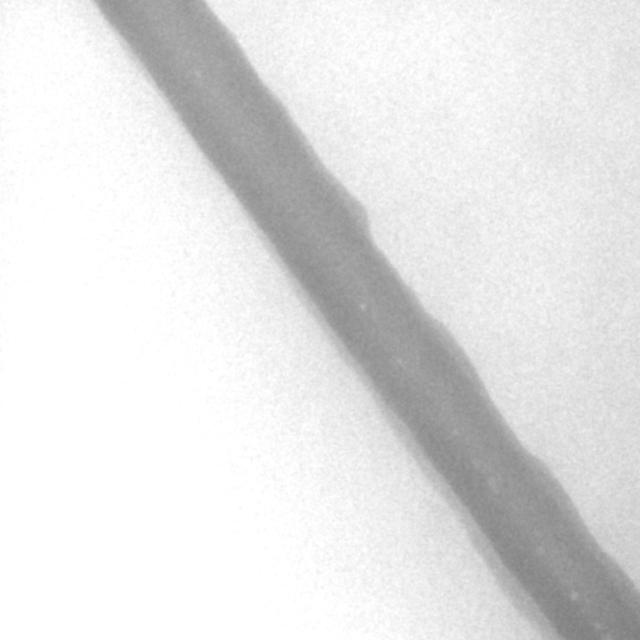air hole: (567, 588, 581, 603), (356, 298, 366, 313)
